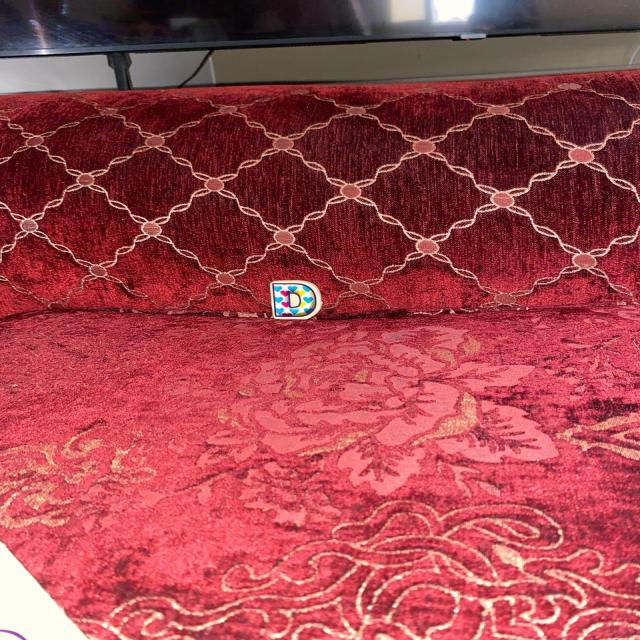D: (271, 280, 321, 319)
